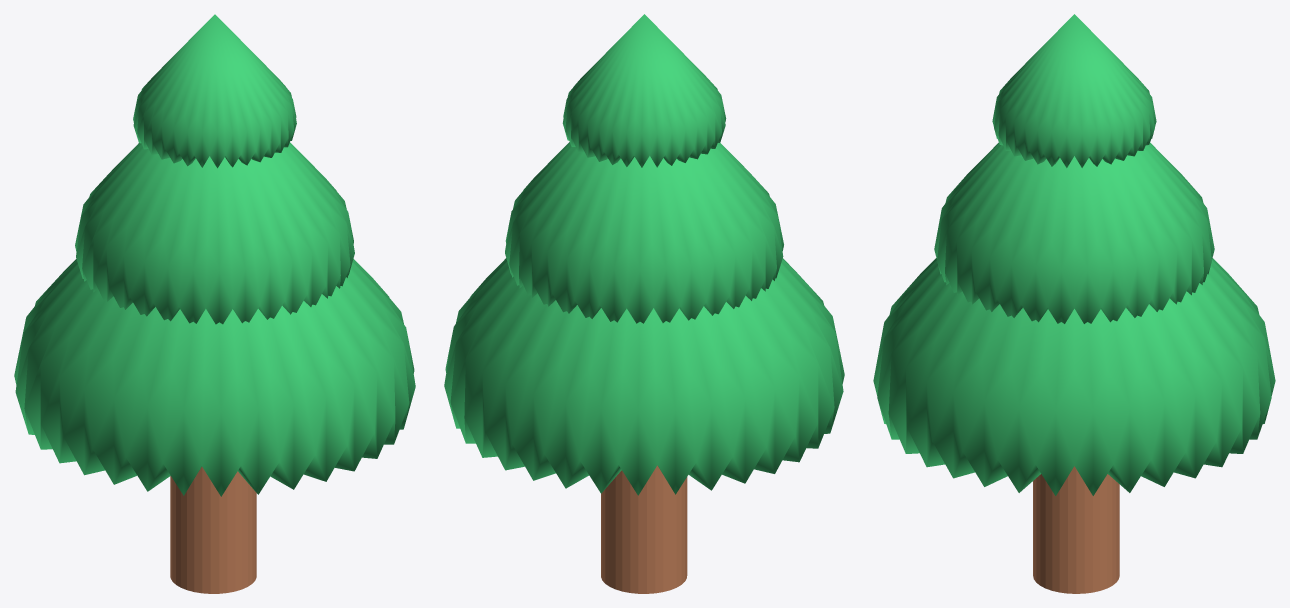
The model's file is tree1.fbx.
3 views of the same model, side by side, from view 1: azimuth 30°, elevation 25°; view 2: azimuth 150°, elevation 25°; view 3: azimuth 270°, elevation 25° (orthographic).
Visible parts, largest first — view 1: Cube; view 2: Cube; view 3: Cube.
Part boxes in pixels (x1,y1,x2,y2): Cube: (14,14,415,593); Cube: (444,14,844,593); Cube: (873,14,1275,593).
Size of the model in its own units: 464 by 715 by 464.
